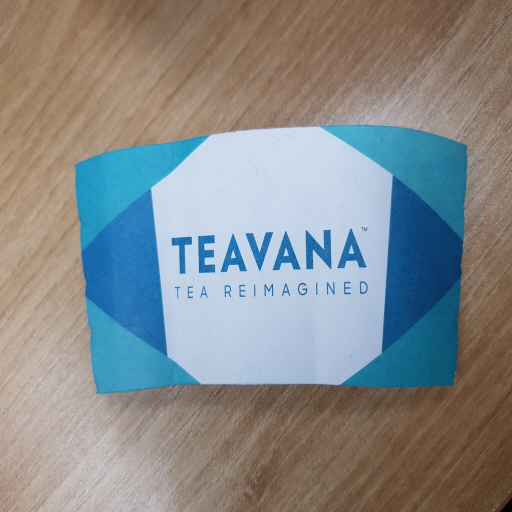Paper_0: (74, 111, 469, 407)
